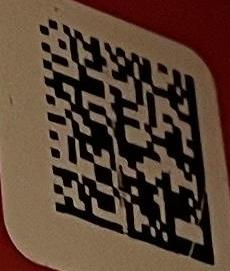datamatrix: (40, 19, 217, 267)
